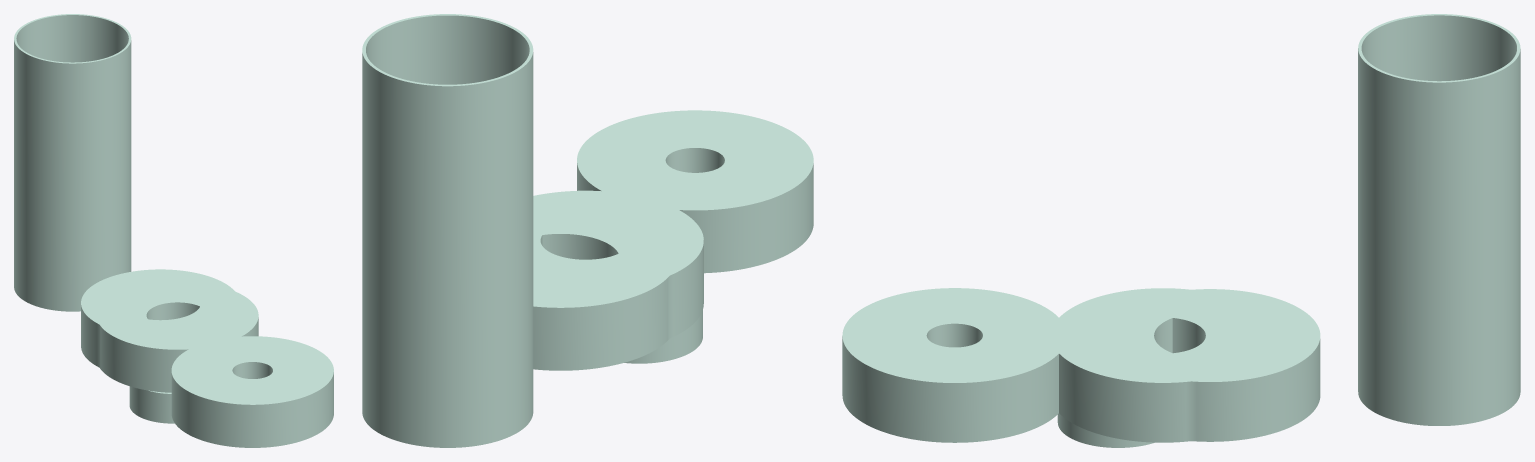
The picture shows the model from 3 angles, left to right: view 1: azimuth 30°, elevation 25°; view 2: azimuth 150°, elevation 25°; view 3: azimuth 270°, elevation 25°; orthographic projection. The views are drawn at different scales.
Visible parts, largest first — view 1: Renderer Node; view 2: Renderer Node; view 3: Renderer Node.
Part boxes in pixels (bbox=[...]): Renderer Node: bbox=[14, 14, 333, 447]; Renderer Node: bbox=[362, 14, 813, 447]; Renderer Node: bbox=[842, 14, 1520, 447].
Size of the model in its own units: 0.4263 by 0.8047 by 1.29.
